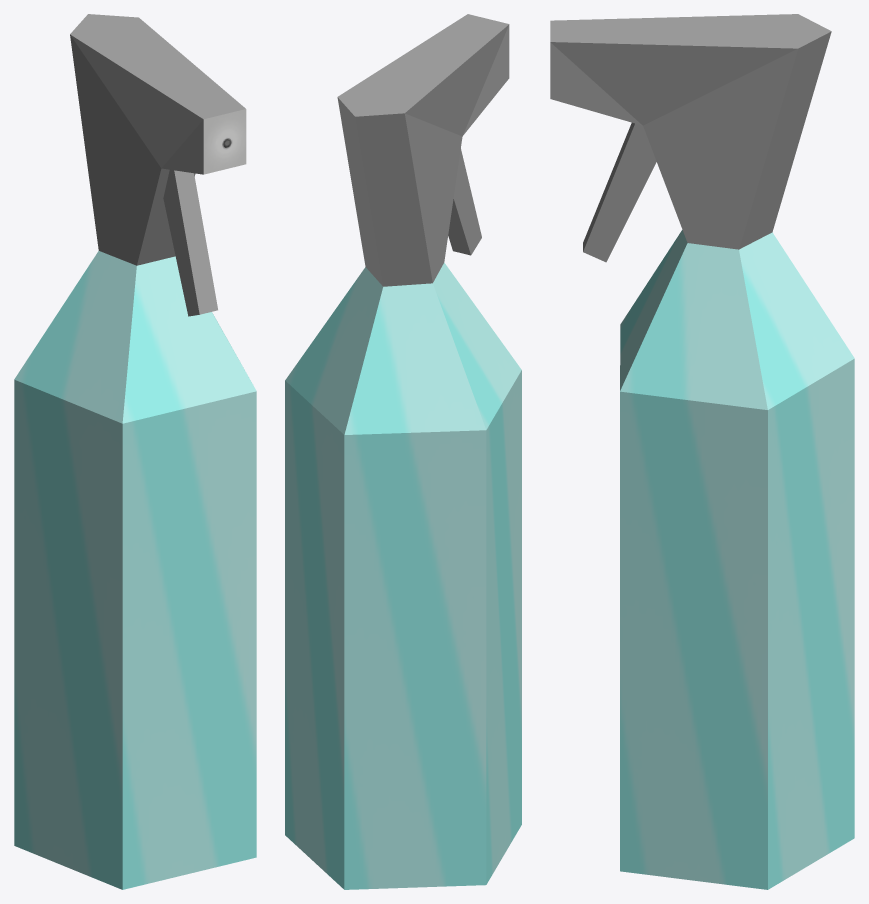
The model's file is SprayBottle.fbx.
The picture shows the model from 3 angles, left to right: view 1: azimuth 30°, elevation 25°; view 2: azimuth 150°, elevation 25°; view 3: azimuth 270°, elevation 25°; orthographic projection. The views are drawn at different scales.
Visible parts, largest first — view 1: Maya_File_Assets:TexturedAssetsCurrent:SprayBottle; view 2: Maya_File_Assets:TexturedAssetsCurrent:SprayBottle; view 3: Maya_File_Assets:TexturedAssetsCurrent:SprayBottle.
Boxes of the visible parts, bbox=[...] form: Maya_File_Assets:TexturedAssetsCurrent:SprayBottle: bbox=[14, 14, 256, 889]; Maya_File_Assets:TexturedAssetsCurrent:SprayBottle: bbox=[285, 14, 521, 889]; Maya_File_Assets:TexturedAssetsCurrent:SprayBottle: bbox=[550, 14, 854, 889].
Bounding box in the file's own units: 0.1091 × 0.3949 × 0.1351.
